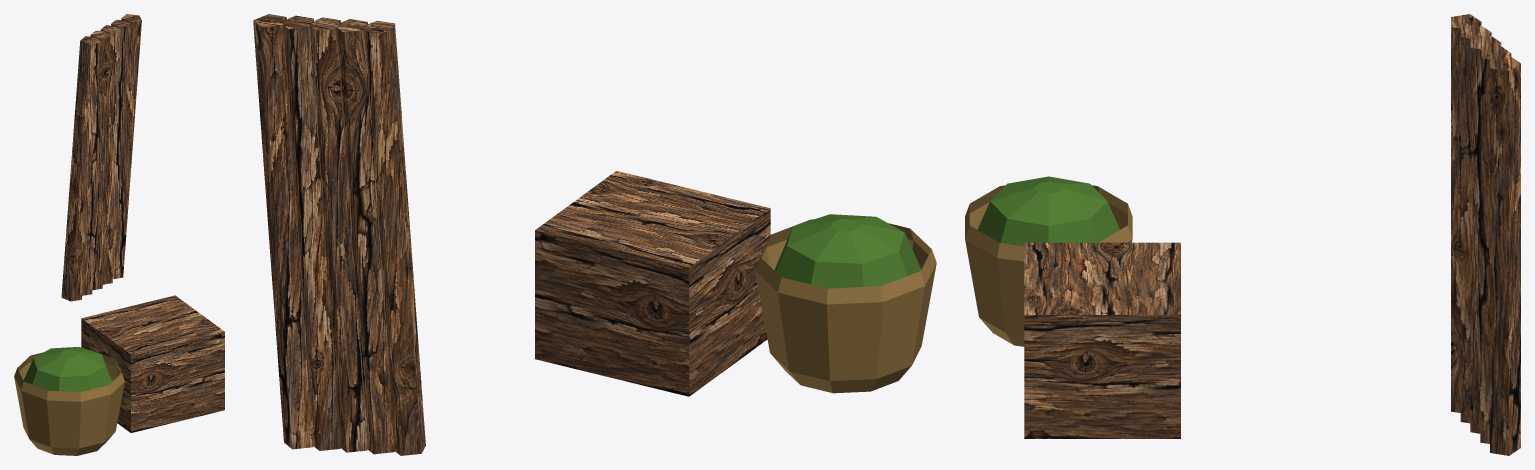
The model's file is mixed02-props.glb.
3 renders of one model, left to right at view 1: azimuth 30°, elevation 25°; view 2: azimuth 150°, elevation 25°; view 3: azimuth 270°, elevation 25°, orthographic. The views are drawn at different scales.
Parts seen in each view (by area): view 1: sticks, crate, basket0, fill0; view 2: sticks, crate, basket0, fill0; view 3: crate, sticks, fill0, basket0.
Boxes of the visible parts, bbox=[...] form: sticks: bbox=[61, 14, 141, 301]; crate: bbox=[81, 295, 224, 432]; basket0: bbox=[14, 350, 124, 455]; fill0: bbox=[23, 347, 112, 392]; sticks: bbox=[253, 14, 425, 455]; crate: bbox=[535, 170, 770, 396]; basket0: bbox=[755, 219, 936, 393]; fill0: bbox=[774, 214, 921, 288]; crate: bbox=[1024, 242, 1180, 438]; sticks: bbox=[1451, 14, 1520, 455]; fill0: bbox=[977, 176, 1119, 246]; basket0: bbox=[965, 185, 1132, 346].
Bounding box in the file's own units: 0.9832 × 0.9526 × 1.14.
3 materials, 1 textured.
